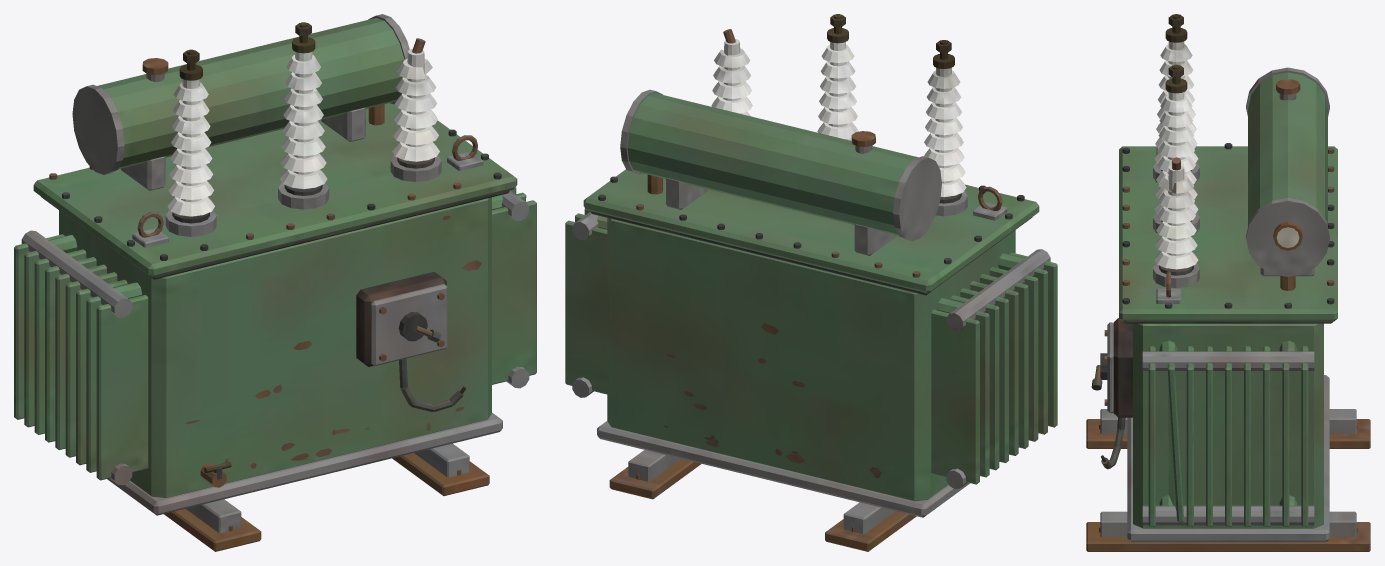
Rendered from U14_big_transformer.glb.
3 views of the same model, side by side, from view 1: azimuth 30°, elevation 25°; view 2: azimuth 150°, elevation 25°; view 3: azimuth 270°, elevation 25° (orthographic). The views are drawn at different scales.
Parts seen in each view (by area): view 1: Abandoned factory transformer; view 2: Abandoned factory transformer; view 3: Abandoned factory transformer.
Boxes of the visible parts, box(x1,y1,x2,y2) form: Abandoned factory transformer: box(14, 14, 536, 551); Abandoned factory transformer: box(565, 14, 1057, 551); Abandoned factory transformer: box(1086, 14, 1370, 551).
Size of the model in its own units: 2.49 by 2.5 by 1.52.
10 materials, 10 textured.
